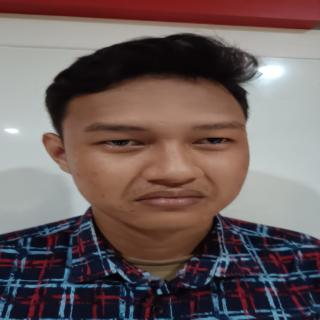Sedih: (58, 85, 260, 236)
